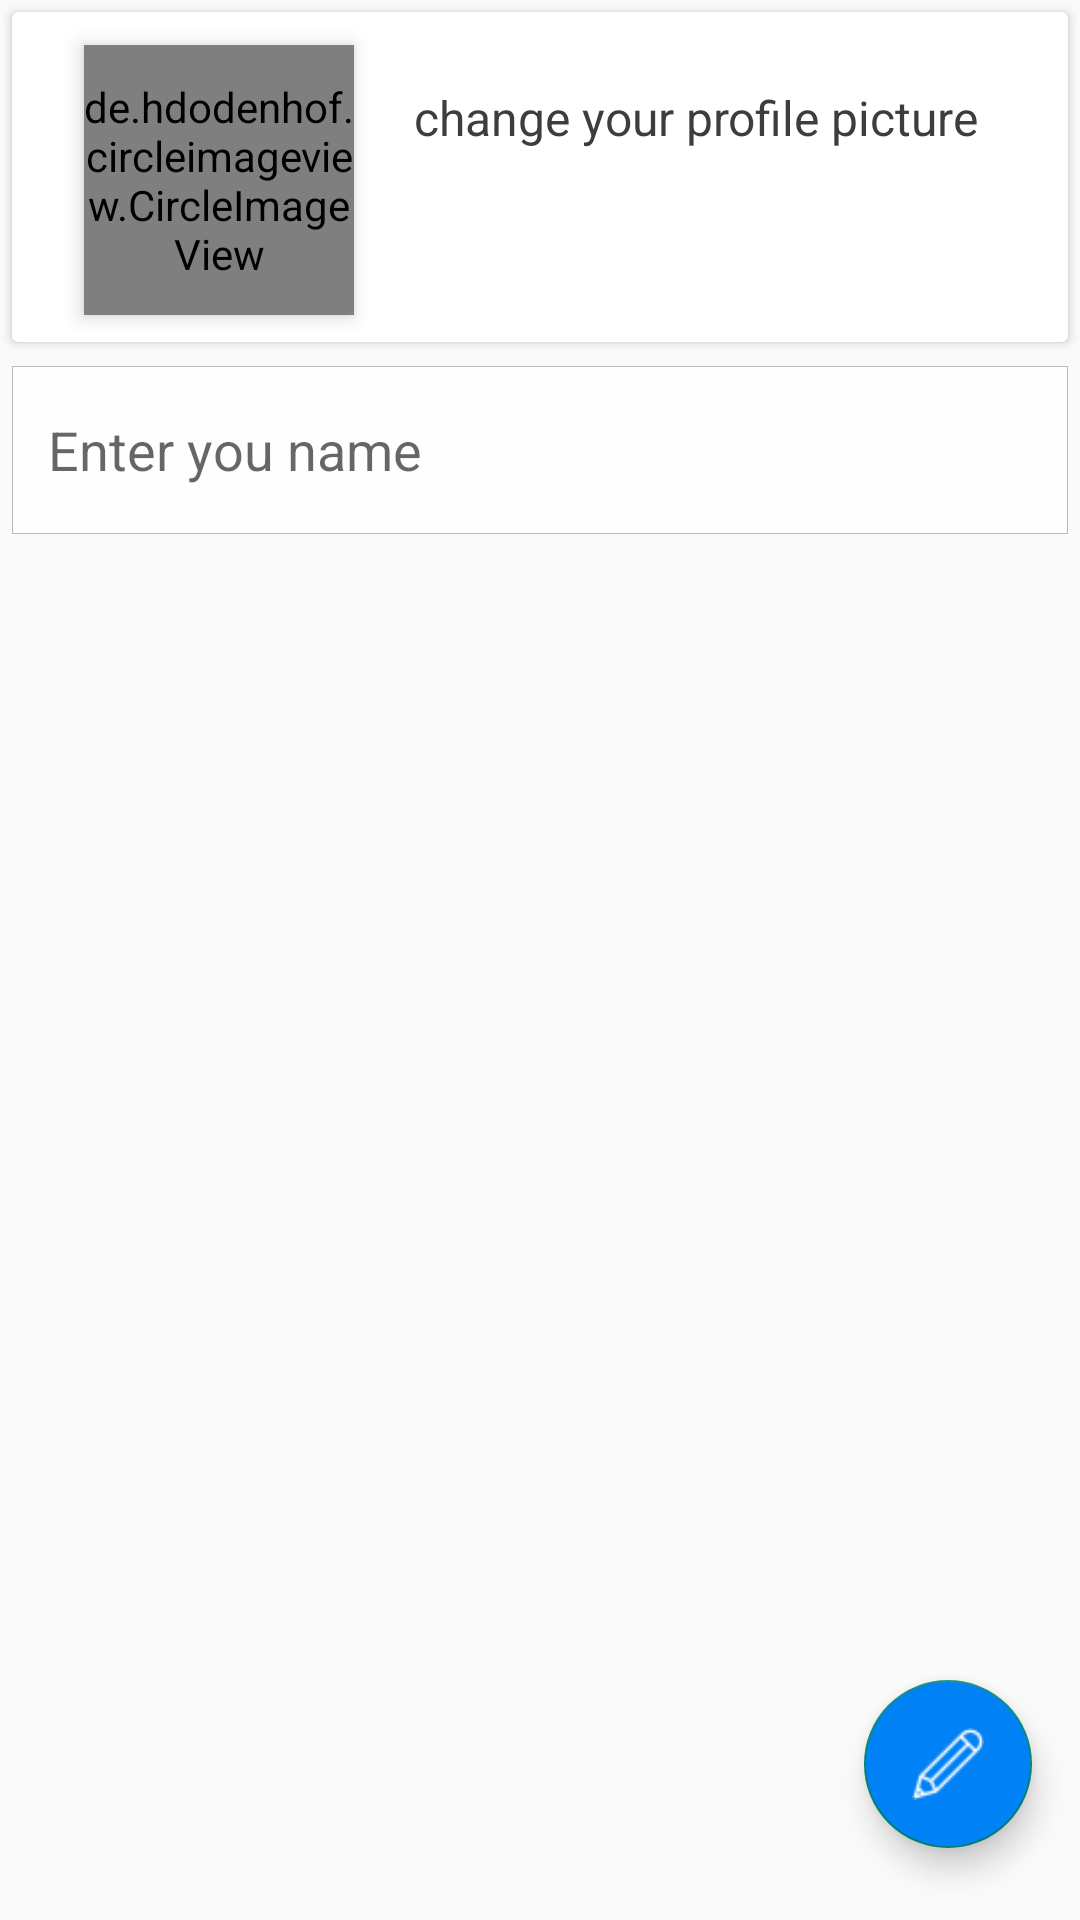

Screen size 1080x1920. Icon name, then its box in pixels as (x1, y1, x2, y2):
edit: (864, 1680, 1032, 1848)
